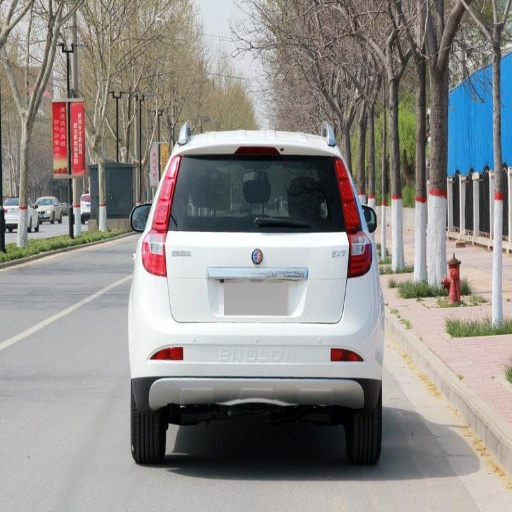back_bumper: (134, 268, 383, 407)
tailgate: (208, 239, 347, 323)
trunk: (147, 230, 350, 342)
